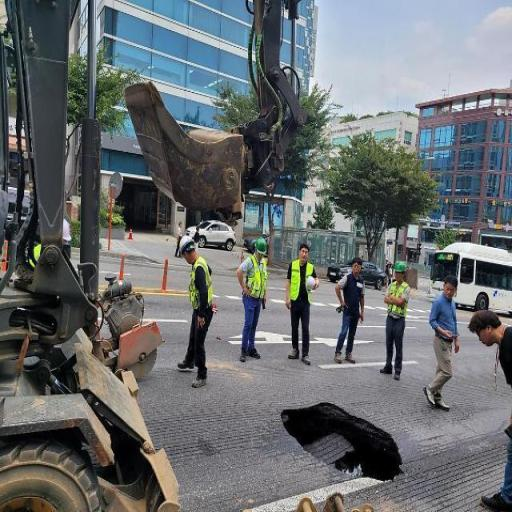Concentric_Crack: (281, 402, 402, 479)
